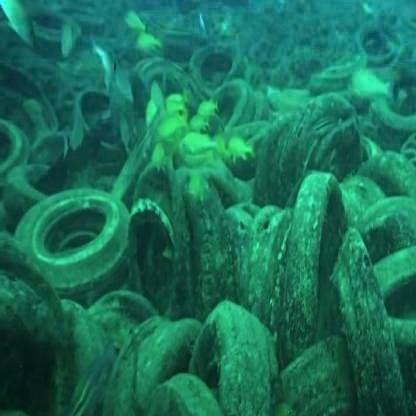tire: (304, 178, 394, 379), (3, 184, 134, 291), (180, 39, 270, 174), (134, 184, 211, 330)
